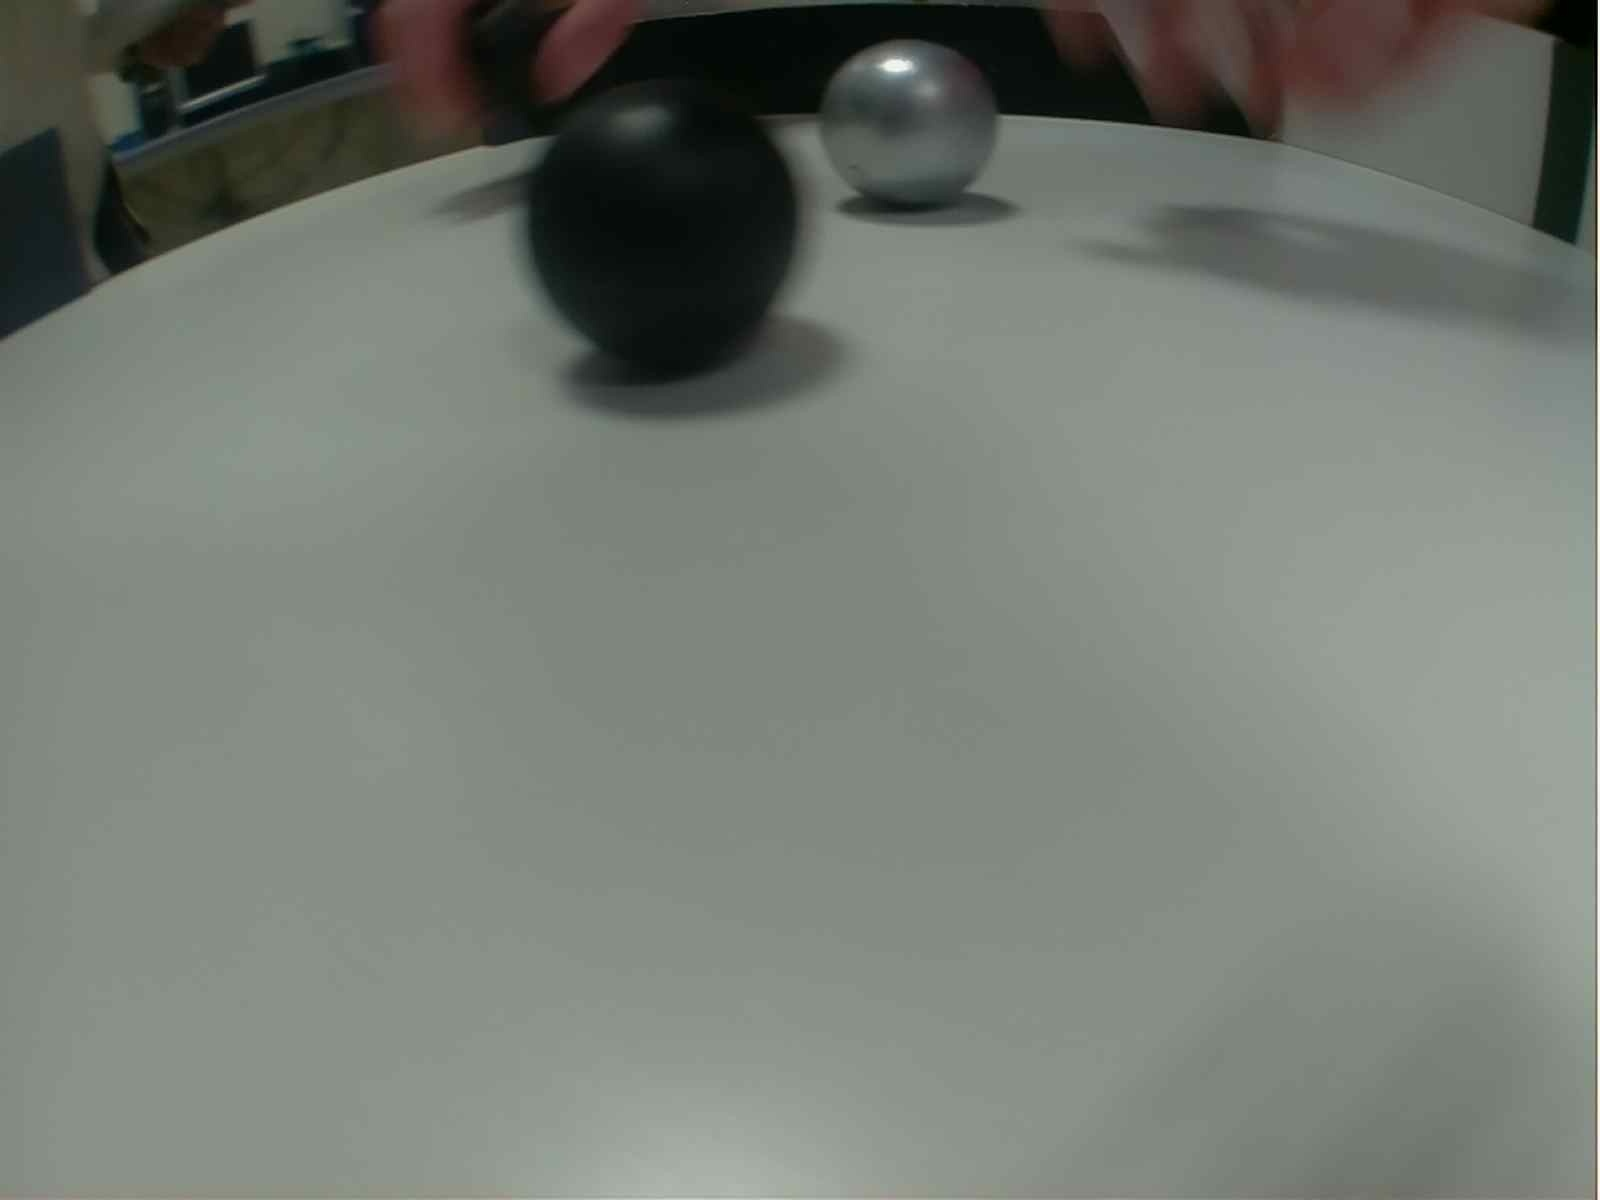bianca: (816, 34, 1003, 212)
nera: (515, 81, 803, 397)
